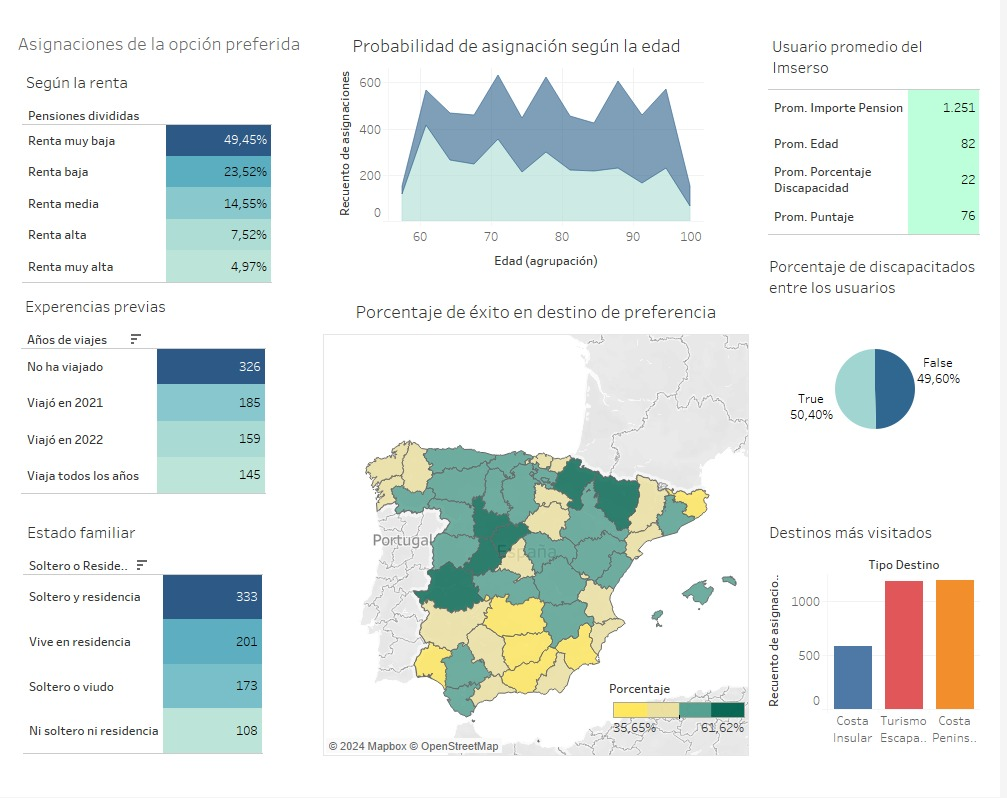

The dashboard page shown, as its layout file describes it:
{"tool":"tableau","page":{"name":"Dashboard 1","canvas":[1000,800],"ordinal":0},"visuals":[{"type":"text","box":[15,26,314,40]},{"type":"worksheet","title":"Hoja 9","mark":"Area","rows":["asignaciones_B0AA9D799D9D410787E3DFFB7DD98304"],"cols":["Edad (agrupación)"],"box":[329,32,375,247]},{"type":"worksheet","title":"Hoja 111","mark":"Square","box":[768,35,224,203]},{"type":"worksheet","title":"% pers 1 opcion","mark":"Square","rows":["Calculation_1320962106333446159"],"box":[22,71,250,215]},{"type":"worksheet","title":"discpacitados_aceptados","mark":"Pie","box":[765,255,220,261]},{"type":"worksheet","title":"Ha viajado?","mark":"Square","rows":["Calculation_1320962106341425169"],"box":[21,295,245,202]},{"type":"worksheet","title":"Mapa ","mark":"Multipolygon","box":[323,298,426,461]},{"type":"legend","title":"Hoja 9","param":"[federated.1eeps3j0ph6gko142n5kc09cuhuf].[none:Calculation_1320962106301206531:n","box":[607,327,66,31]},{"type":"worksheet","title":"Hoja 113","mark":"Square","rows":["Calculation_139048679233347587"],"box":[23,521,240,236]},{"type":"worksheet","title":"Hoja 112","mark":"Automatic","rows":["asignaciones_B0AA9D799D9D410787E3DFFB7DD98304"],"cols":["tipo_destino"],"box":[765,521,215,231]},{"type":"legend","title":"Mapa ","param":"[federated.1eeps3j0ph6gko142n5kc09cuhuf].[usr:Calculation_1320962106304110598:qk","box":[609,683,140,76]}]}

Visuals, with their boxes in screenshot pixels (x1, y1, x2, y2), scaled from the page's 1000x800 canvas onto the 1007x798 screenshot:
text: x1=15 y1=26 x2=331 y2=66
"Hoja 9" worksheet (Area marks): x1=331 y1=32 x2=709 y2=278
"Hoja 111" worksheet (Square marks): x1=773 y1=35 x2=999 y2=237
"% pers 1 opcion" worksheet (Square marks): x1=22 y1=71 x2=274 y2=285
"discpacitados_aceptados" worksheet (Pie marks): x1=770 y1=254 x2=992 y2=515
"Ha viajado?" worksheet (Square marks): x1=21 y1=294 x2=268 y2=496
"Mapa " worksheet (Multipolygon marks): x1=325 y1=297 x2=754 y2=757
"Hoja 9" legend: x1=611 y1=326 x2=678 y2=357
"Hoja 113" worksheet (Square marks): x1=23 y1=520 x2=265 y2=755
"Hoja 112" worksheet: x1=770 y1=520 x2=987 y2=750
"Mapa " legend: x1=613 y1=681 x2=754 y2=757
